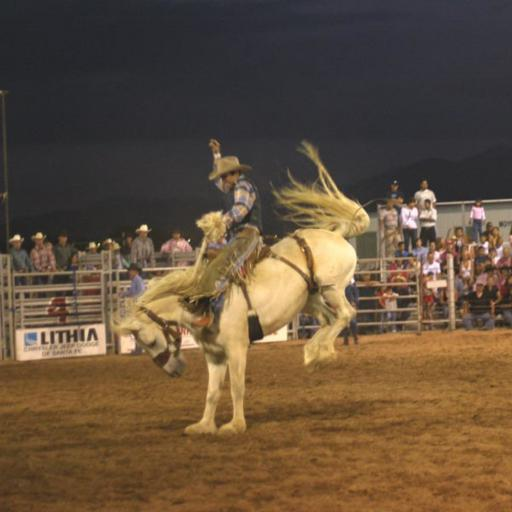horse: (108, 138, 392, 440)
